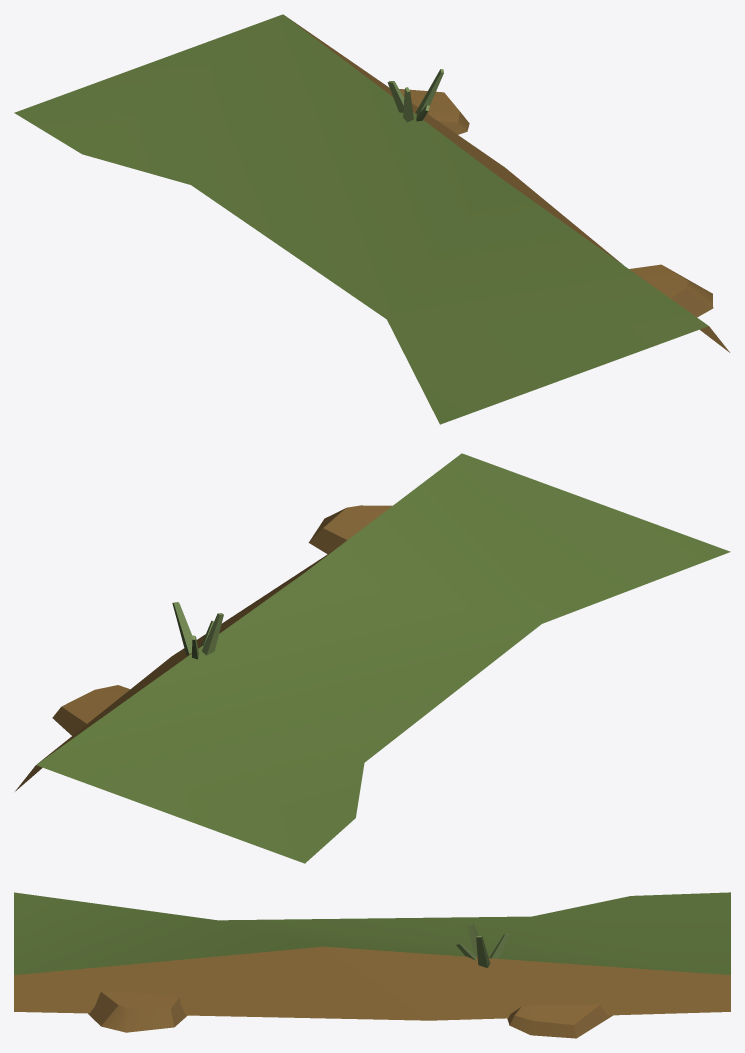
File: SF_Env_GrassEdge_Straight_01.fbx
The picture shows the model from 3 angles, top to bottom: view 1: azimuth 30°, elevation 25°; view 2: azimuth 150°, elevation 25°; view 3: azimuth 270°, elevation 25°; orthographic projection. The views are drawn at different scales.
Parts seen in each view (by area): view 1: SF_Env_GrassEdge_Straight_01; view 2: SF_Env_GrassEdge_Straight_01; view 3: SF_Env_GrassEdge_Straight_01.
Boxes of the visible parts, <box> form: SF_Env_GrassEdge_Straight_01: <box>14,14,729,424</box>; SF_Env_GrassEdge_Straight_01: <box>15,453,730,863</box>; SF_Env_GrassEdge_Straight_01: <box>14,892,730,1038</box>.
Size of the model in its own units: 9.34 by 2.32 by 20.
